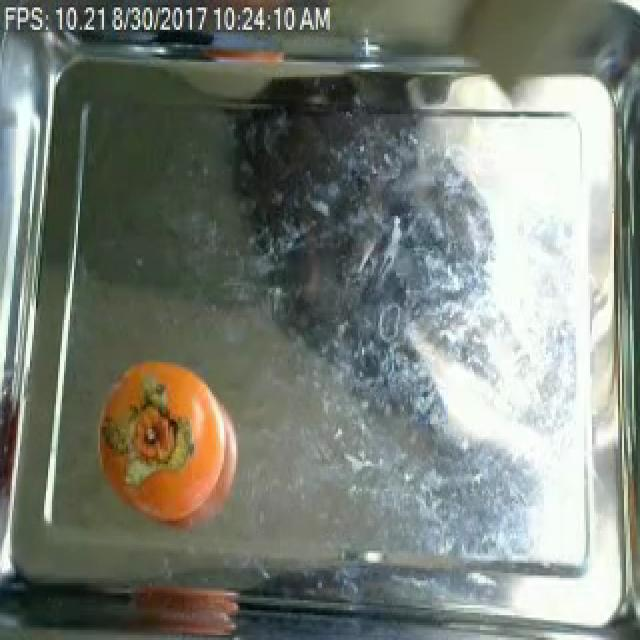Fruit: (92, 352, 192, 514)
